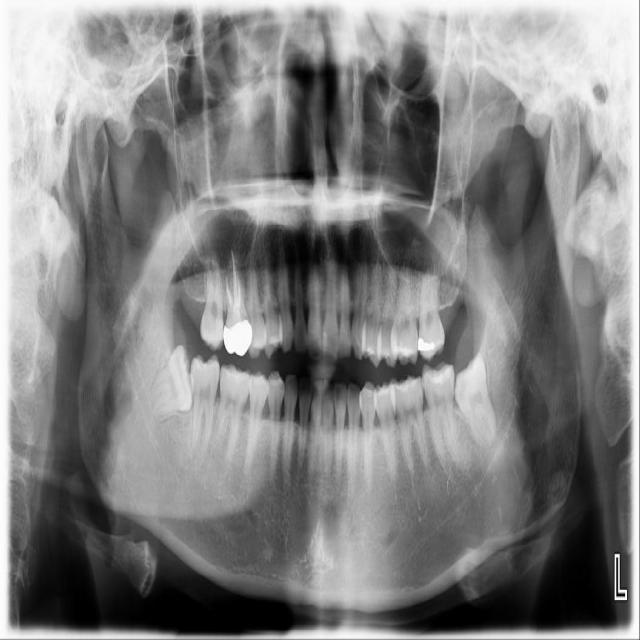52: (417, 323, 446, 362), (223, 321, 252, 356)
73: (215, 246, 249, 325), (615, 602, 626, 612)
BioHorizons Implant: (417, 259, 447, 362)
Biomet 3i Implant: (446, 351, 501, 452)
Blue Sky Bio Implant: (421, 361, 459, 463)
Caries: (200, 246, 225, 353)
Implant: (190, 352, 221, 459)
Keystone Dental Implant: (146, 343, 195, 420)
